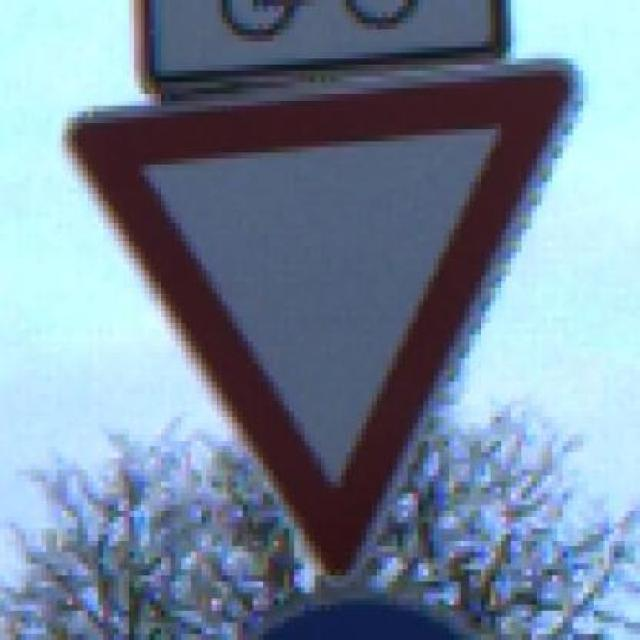Give Way: (41, 53, 604, 593)
